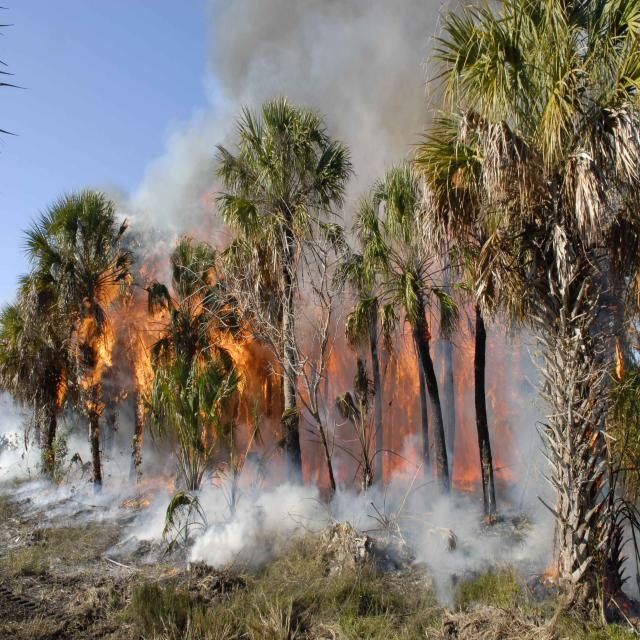Fire: (444, 303, 534, 491), (282, 316, 374, 484), (381, 319, 431, 492), (72, 268, 112, 430), (206, 303, 261, 395), (132, 292, 162, 424), (130, 461, 180, 511)
Smoke: (154, 8, 458, 257), (346, 462, 482, 592), (5, 399, 124, 518), (517, 320, 565, 564), (203, 451, 304, 564)
